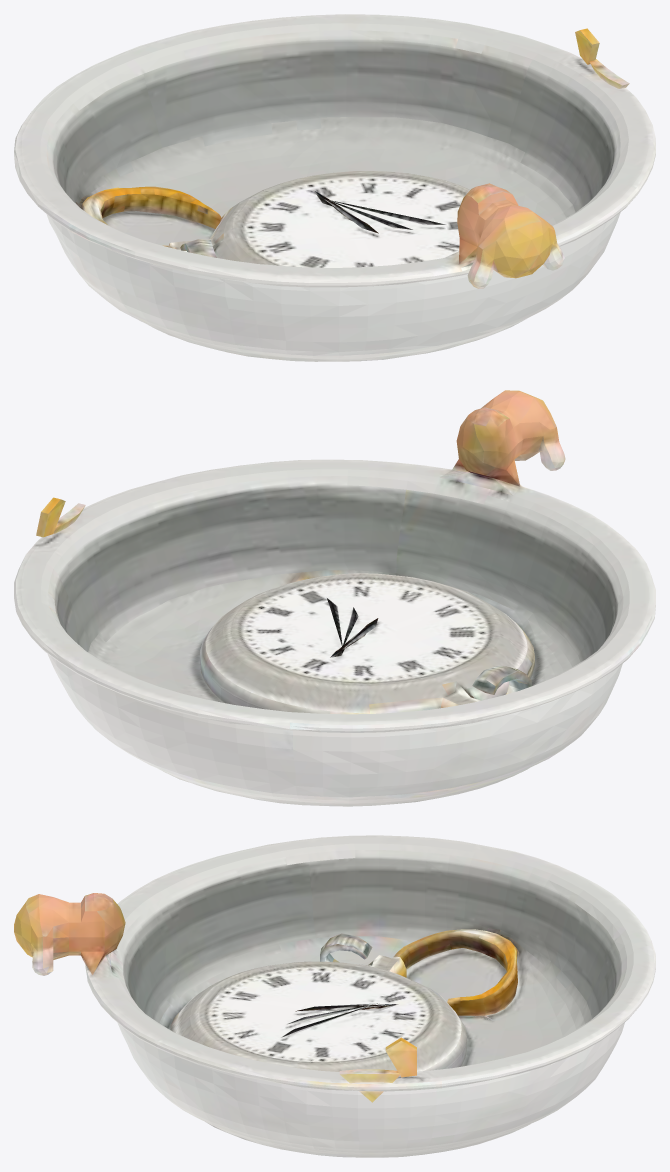
File: prop_ring.glb
The picture shows the model from 3 angles, top to bottom: view 1: azimuth 30°, elevation 25°; view 2: azimuth 150°, elevation 25°; view 3: azimuth 270°, elevation 25°; orthographic projection. The views are drawn at different scales.
Parts seen in each view (by area): view 1: mesh_node; view 2: mesh_node; view 3: mesh_node.
Part boxes in pixels (x1,y1,x2,y2): mesh_node: [14, 14, 655, 361]; mesh_node: [14, 390, 655, 806]; mesh_node: [14, 835, 655, 1157].
Bounding box in the file's own units: 1.77 × 0.5715 × 1.91.
1 material, 1 textured.
